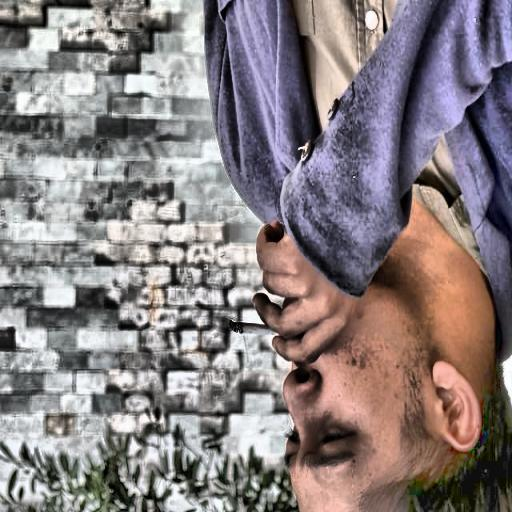Merokok: (229, 322, 275, 335)
Rokok: (230, 206, 494, 512)
